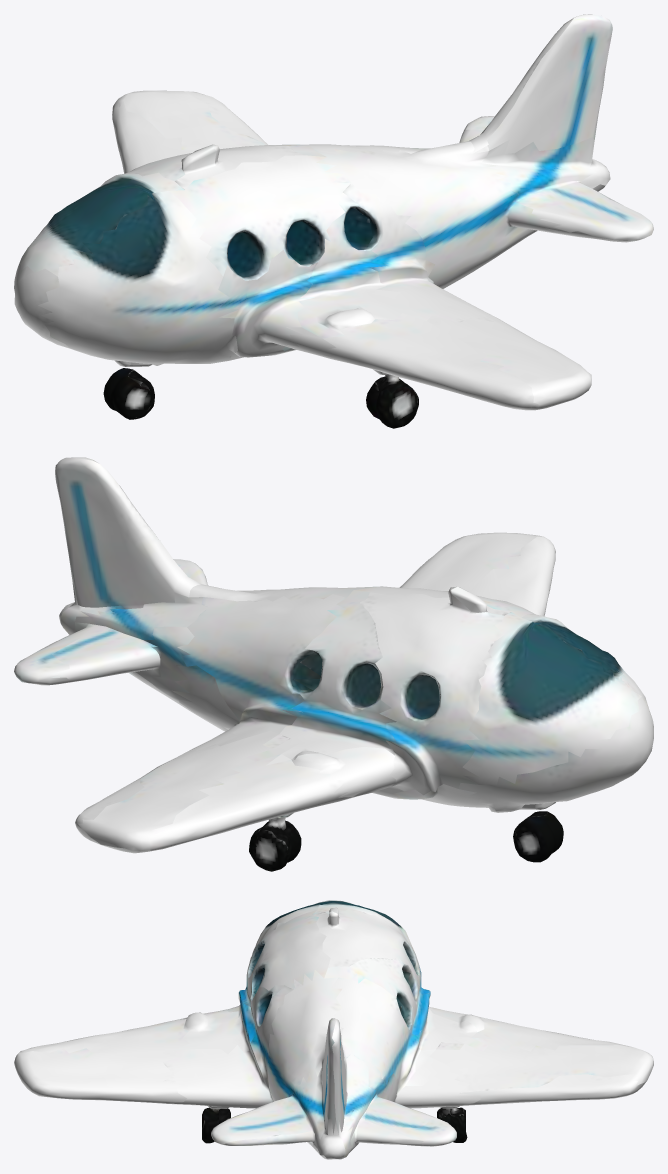
File: plane_small.glb
3 renders of one model, top to bottom at view 1: azimuth 30°, elevation 25°; view 2: azimuth 150°, elevation 25°; view 3: azimuth 270°, elevation 25°, orthographic. The views are drawn at different scales.
Visible parts, largest first — view 1: mesh_node; view 2: mesh_node; view 3: mesh_node.
Part boxes in pixels (x1,y1,x2,y2): mesh_node: (14, 14, 653, 428); mesh_node: (14, 457, 653, 871); mesh_node: (14, 900, 653, 1159).
Bounding box in the file's own units: 1.57 × 0.7319 × 1.91.
1 material, 1 textured.
